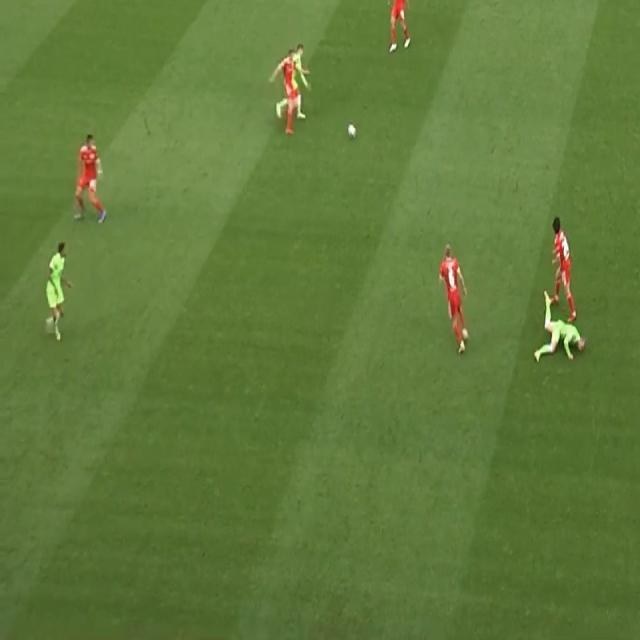ball: (347, 120, 357, 140)
